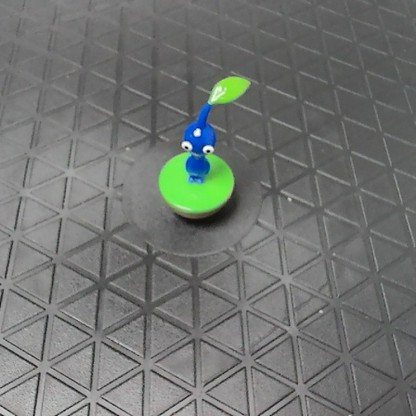leafairy: (157, 68, 251, 224)
